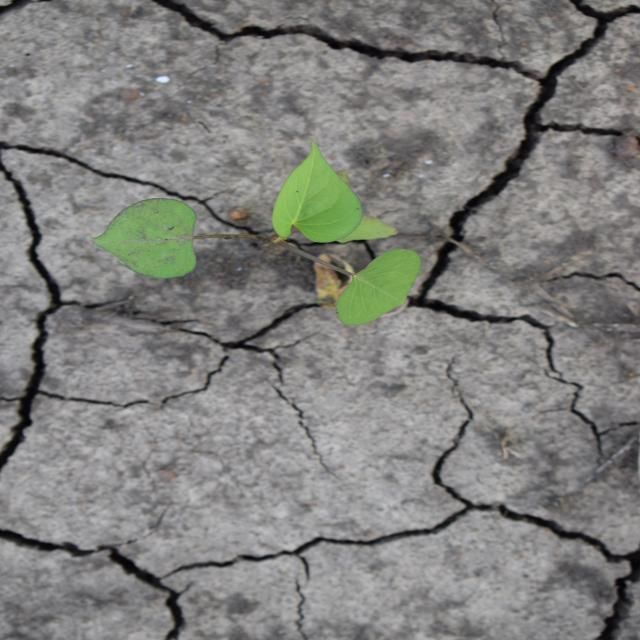MorningGlory: (86, 140, 424, 329)
